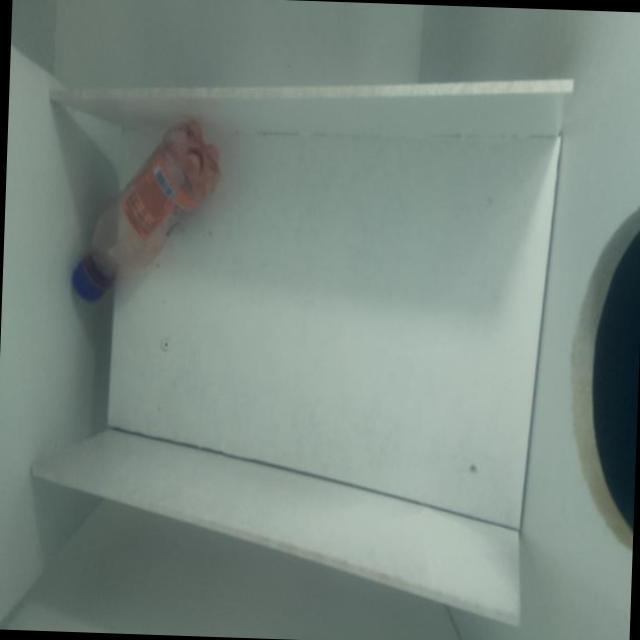good: (62, 93, 233, 334)
